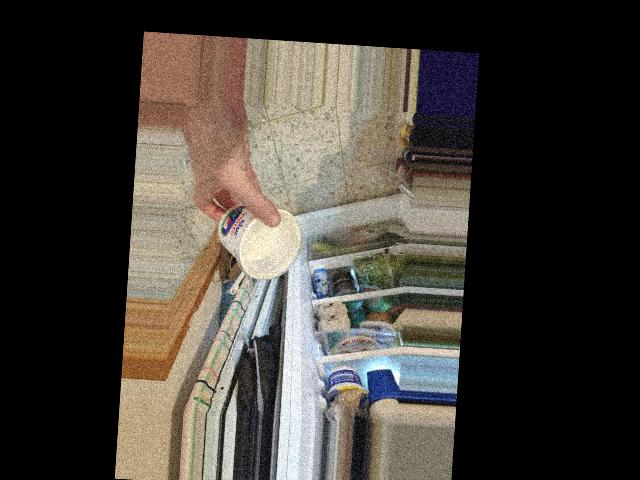cotage: (211, 198, 299, 281)
